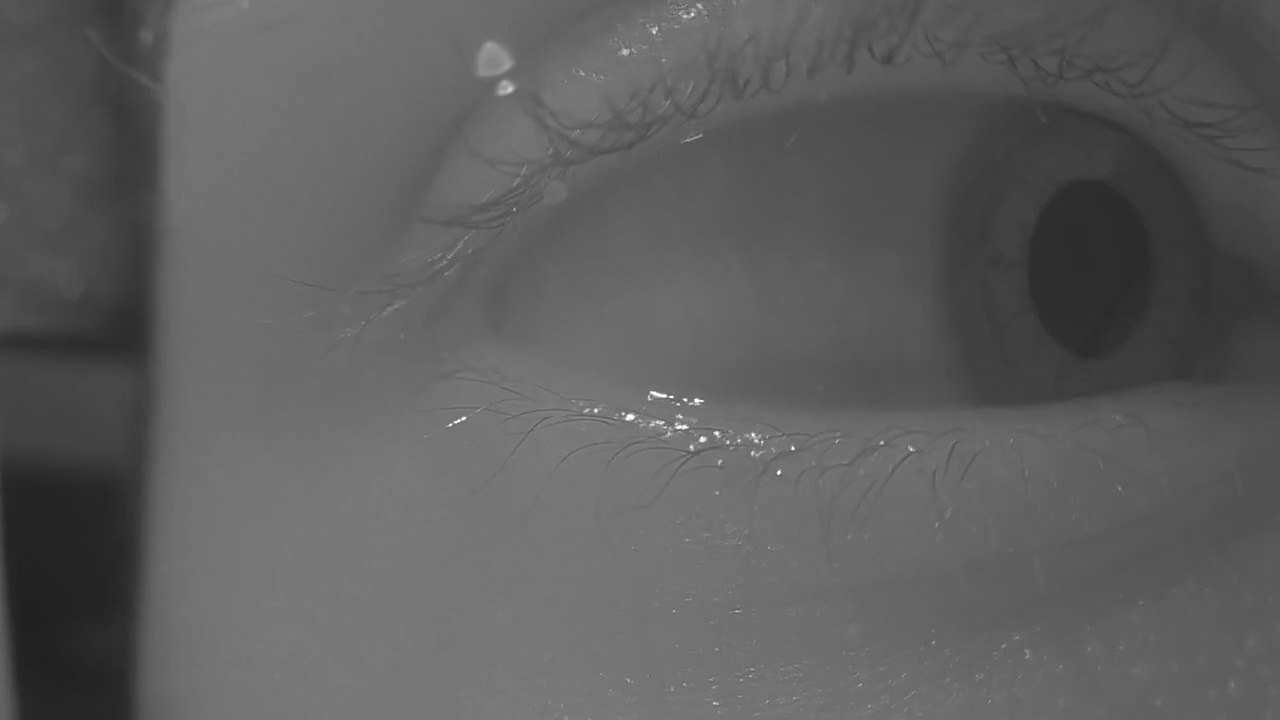pupil: (1027, 181, 1148, 359)
